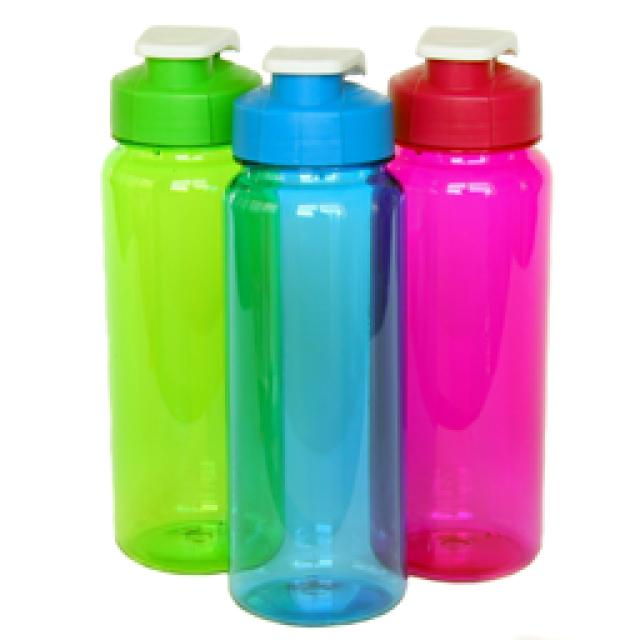plastic: (105, 23, 549, 628)
